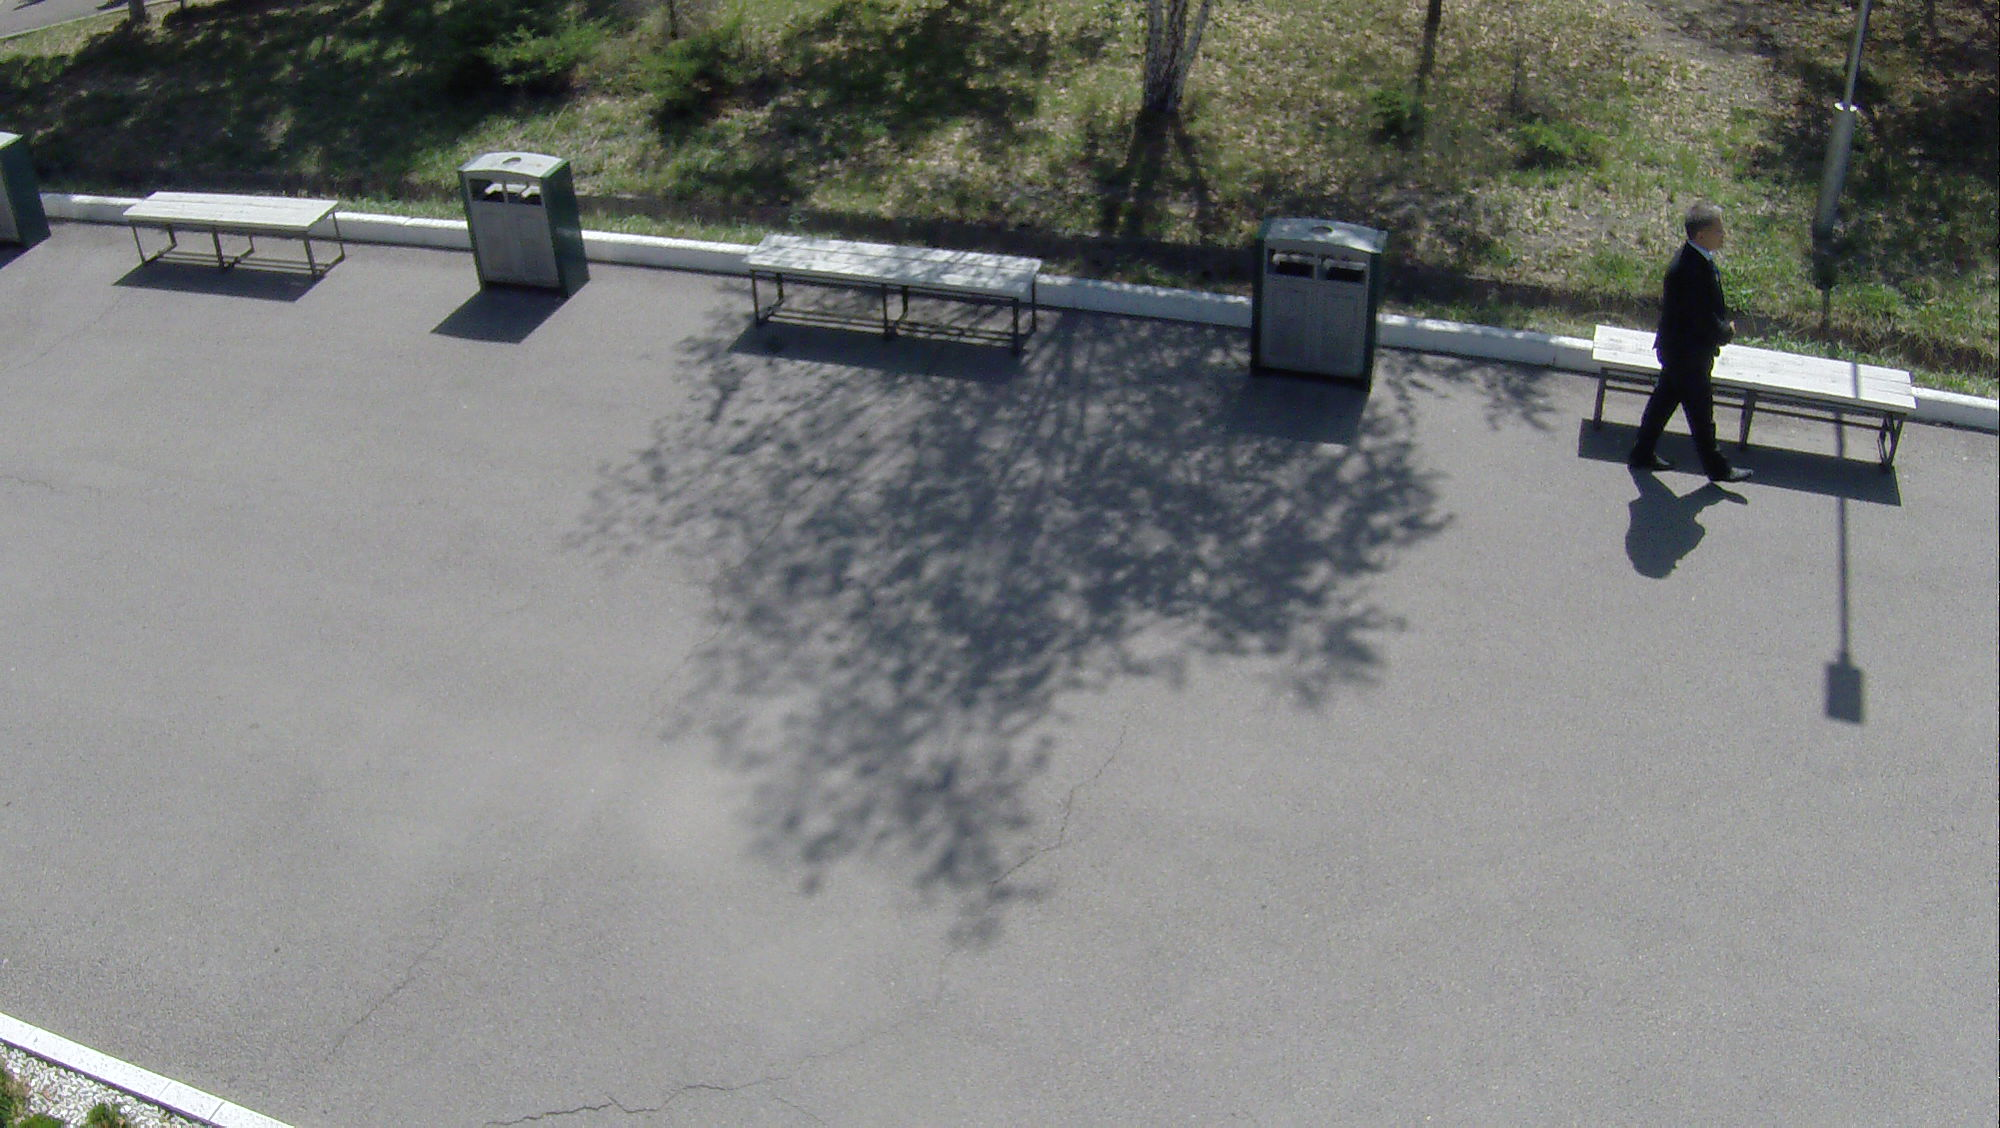person: (1612, 189, 1768, 501)
